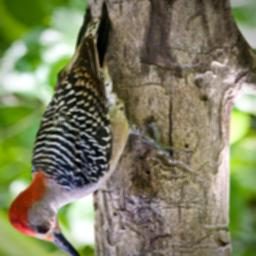Woodpecker: (0, 1, 199, 256)
